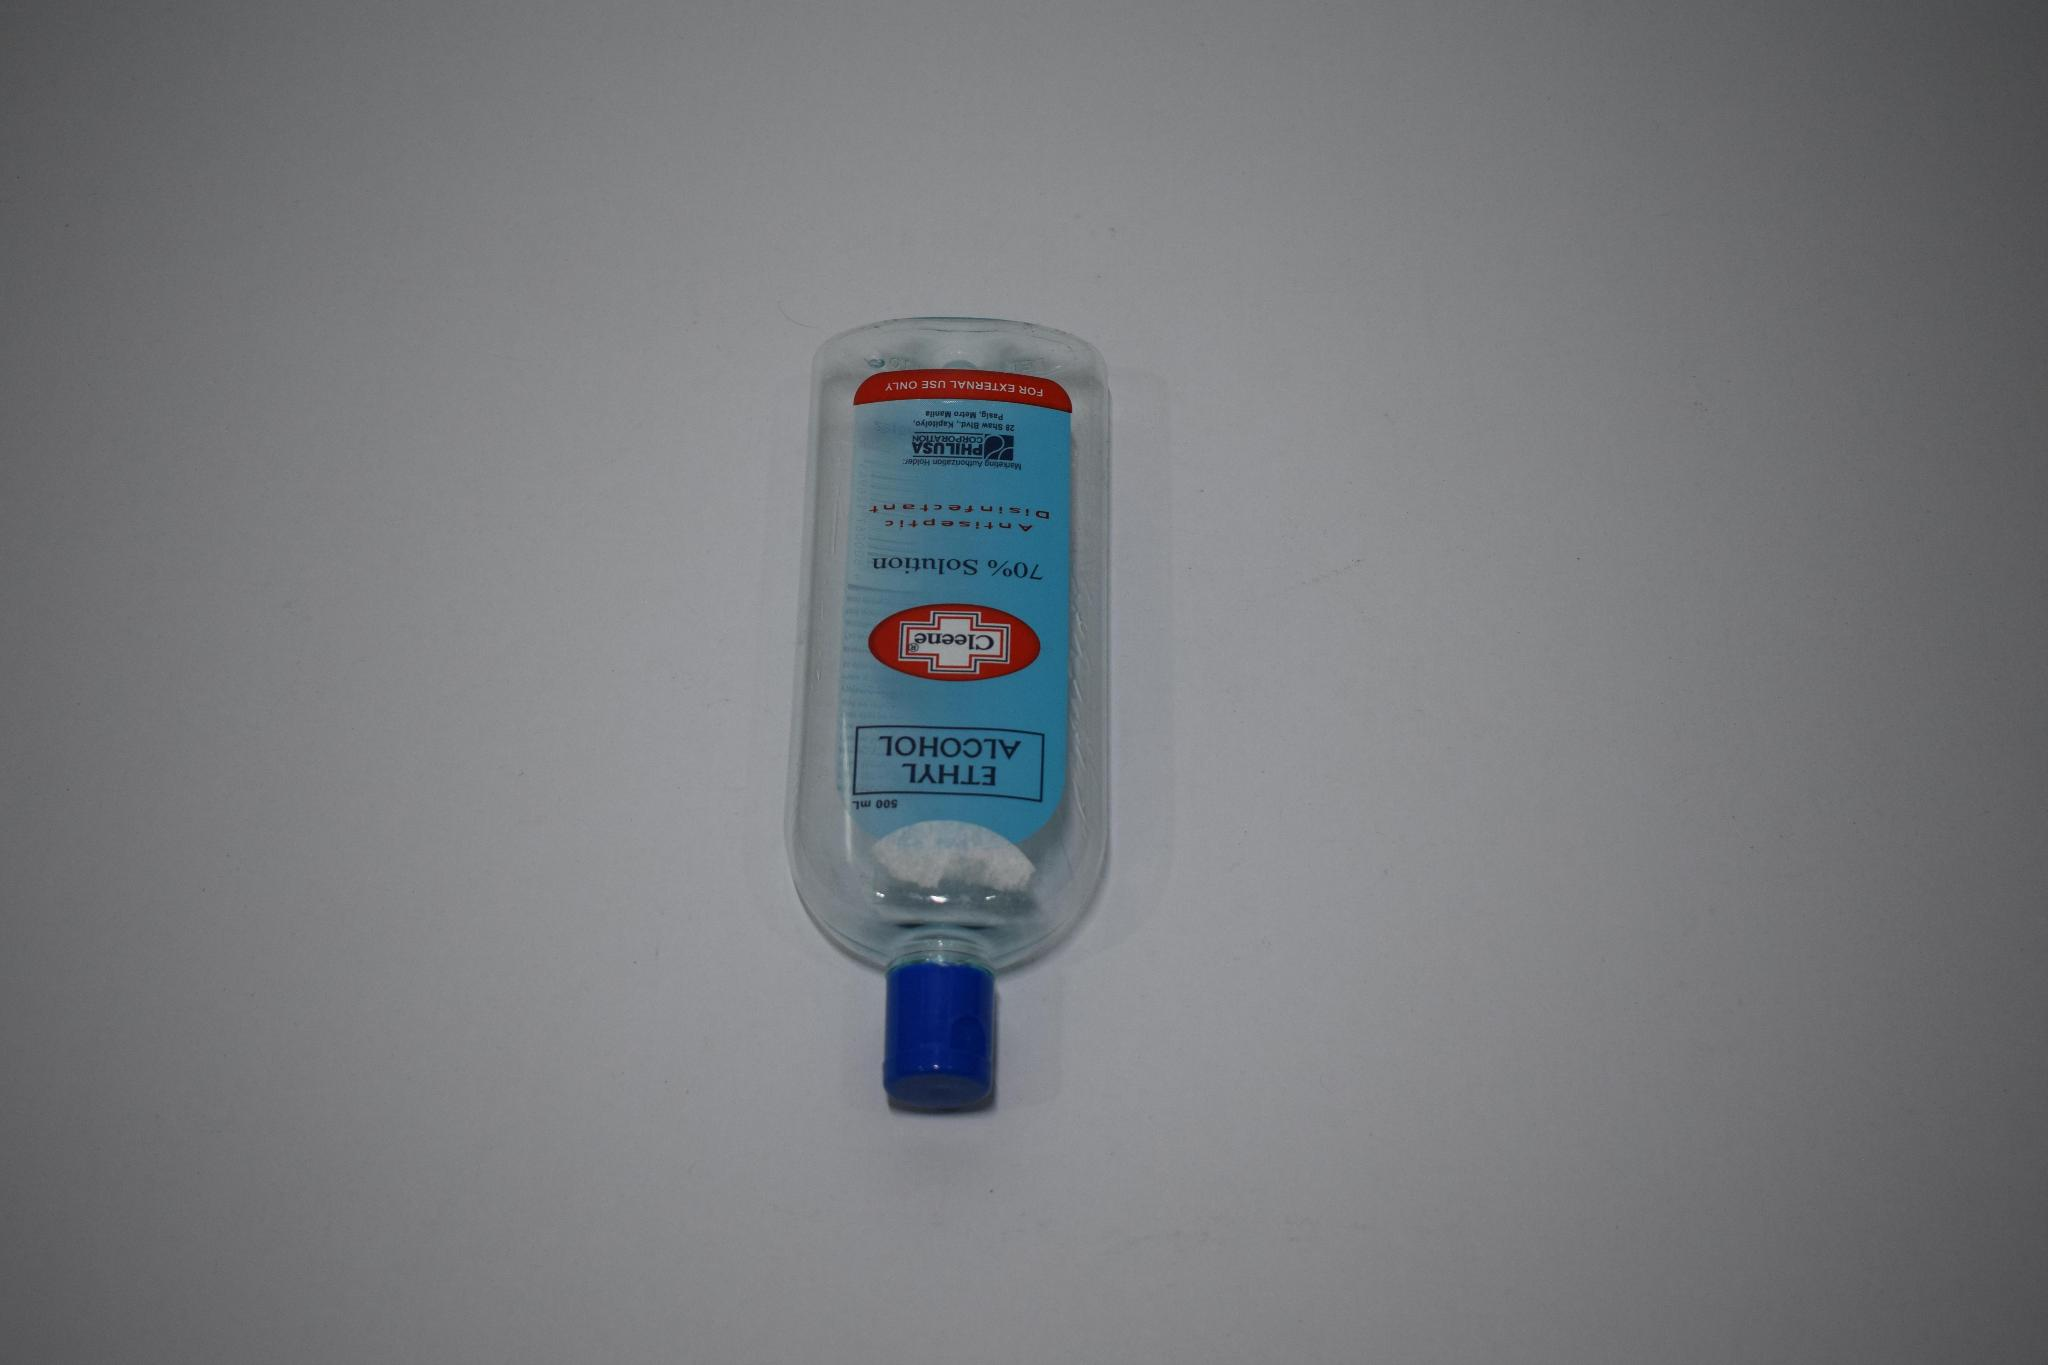bottle: (789, 302, 1124, 1153)
